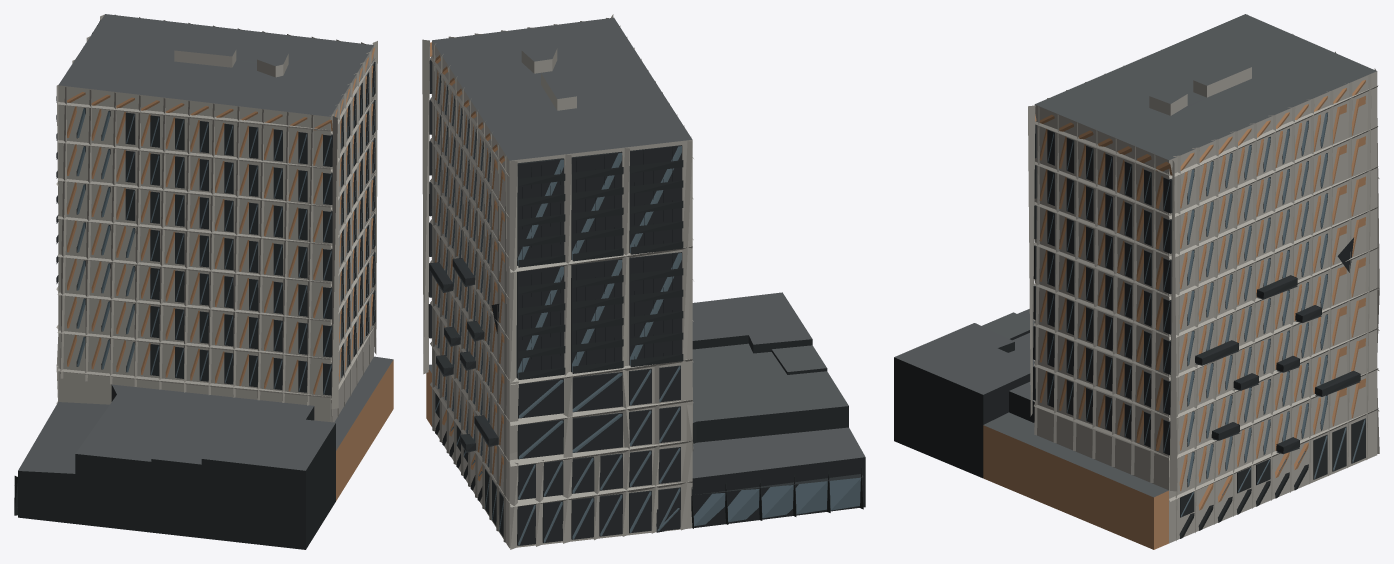
File: voc-kade-600.lod1.glb
The picture shows the model from 3 angles, left to right: view 1: azimuth 30°, elevation 25°; view 2: azimuth 150°, elevation 25°; view 3: azimuth 270°, elevation 25°; orthographic projection. The views are drawn at different scales.
Parts seen in each view (by area): view 1: voc-kade-600; view 2: voc-kade-600; view 3: voc-kade-600.
Boxes of the visible parts, x1,y1,x2,y2 form: voc-kade-600: (14, 14, 393, 549); voc-kade-600: (422, 14, 865, 549); voc-kade-600: (894, 14, 1379, 549).
Size of the model in its own units: 59.01 by 53.44 by 59.46.
